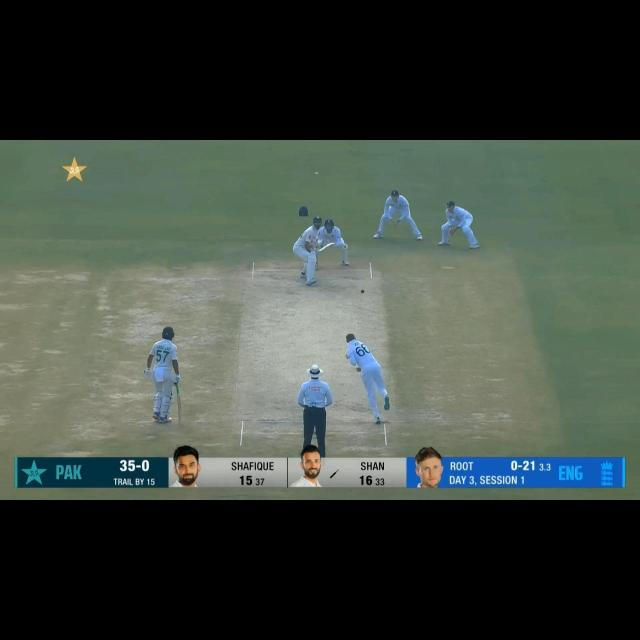bat: (316, 241, 338, 254), (176, 392, 182, 427)
toe: (329, 240, 335, 248), (177, 418, 181, 424)
